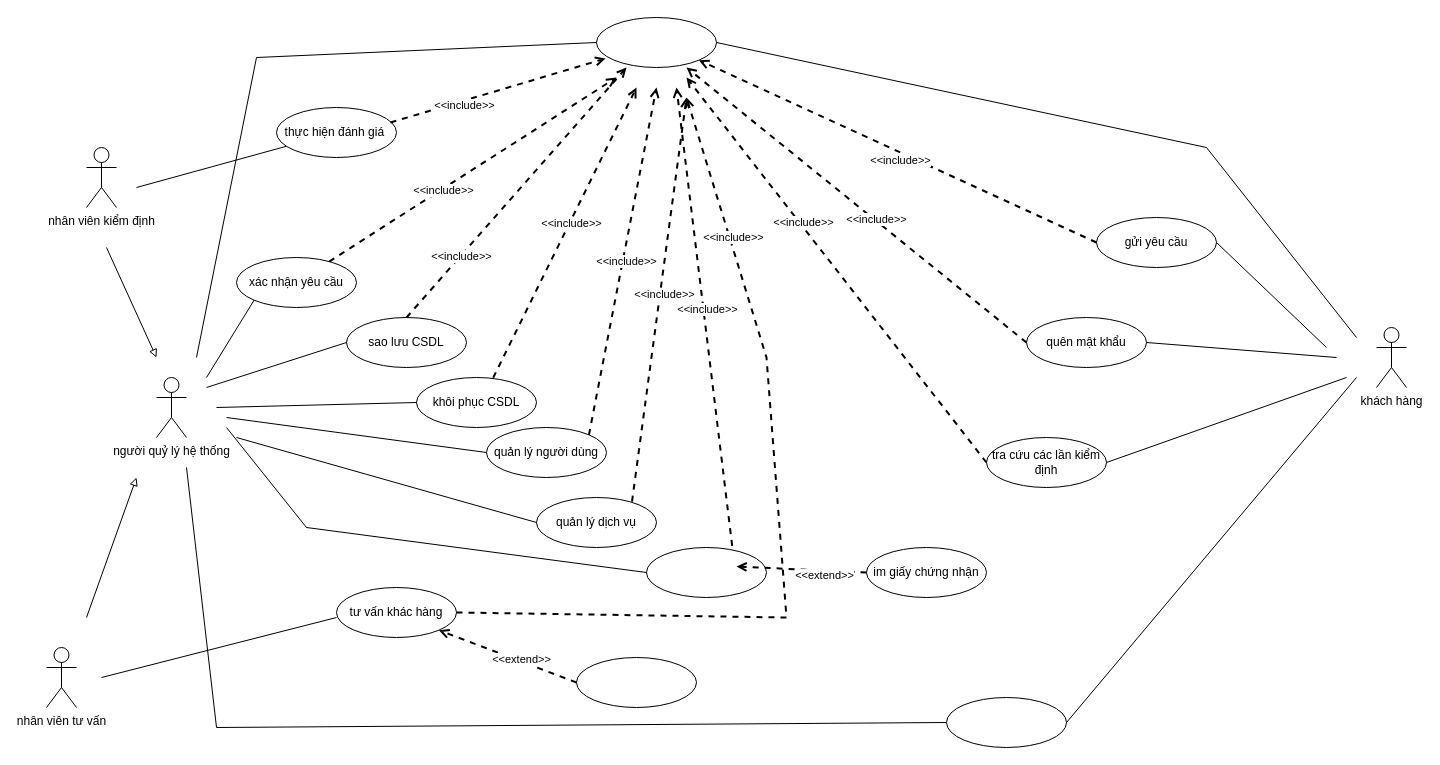
Image size: 1440x765. Some labels were removed from this diagram. The shapes that lost their labels are listed below. From the top down, each one's box as (x1, y1, x2, y2) in pixels, then its label:
(596, 16, 716, 68): Đăng nhập
(646, 546, 766, 598): xuất báo cáo
(576, 656, 696, 708): liên hệ khách hàng
(946, 696, 1066, 748): Đăng xuất
